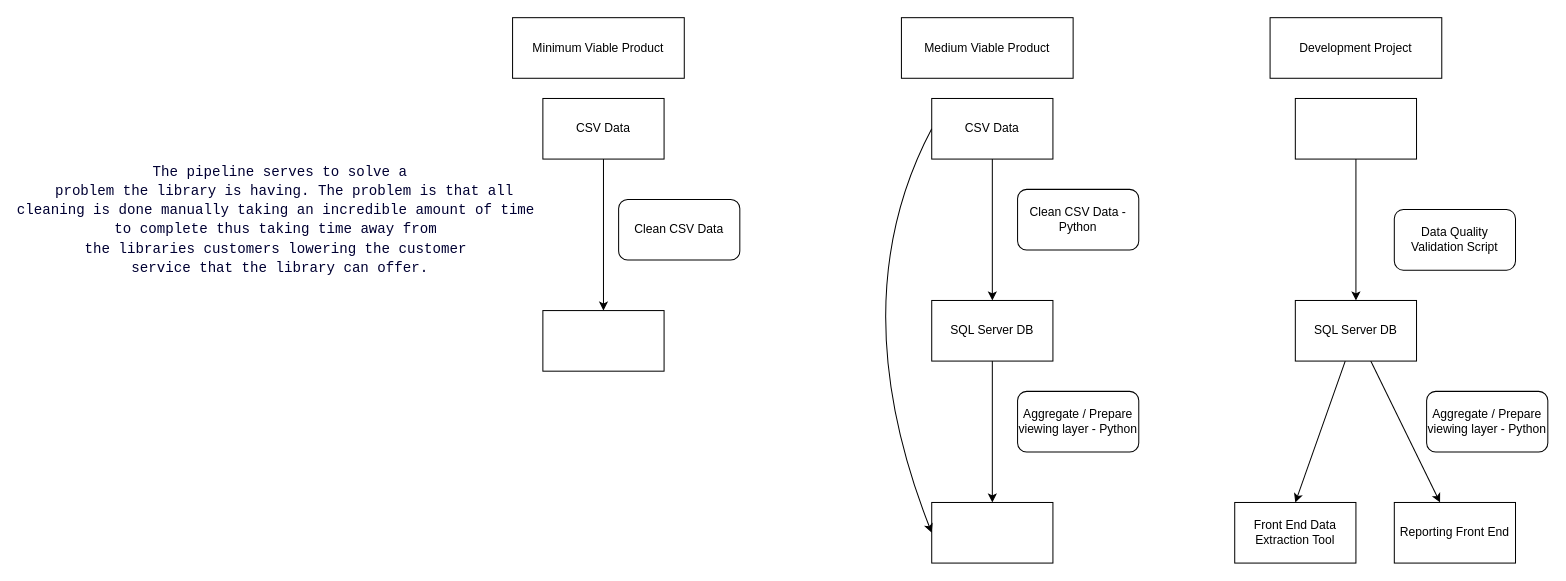
Image size: 1566x581. Some labels were removed from this diagram. The centre of each missing label's shape, as x and y in pixels:
"Create Clean CSV" belongs at pixel 603 340.
"Create Report" belongs at pixel 992 532.
"Front End Data Entry UI" belongs at pixel 1355 128.
